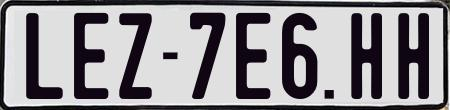6: (282, 13, 321, 104)
7: (189, 12, 226, 100)
E: (234, 10, 272, 100), (73, 12, 108, 99)
H: (397, 10, 433, 101), (348, 11, 380, 102)
L: (26, 12, 68, 98)
Z: (116, 10, 153, 98)
